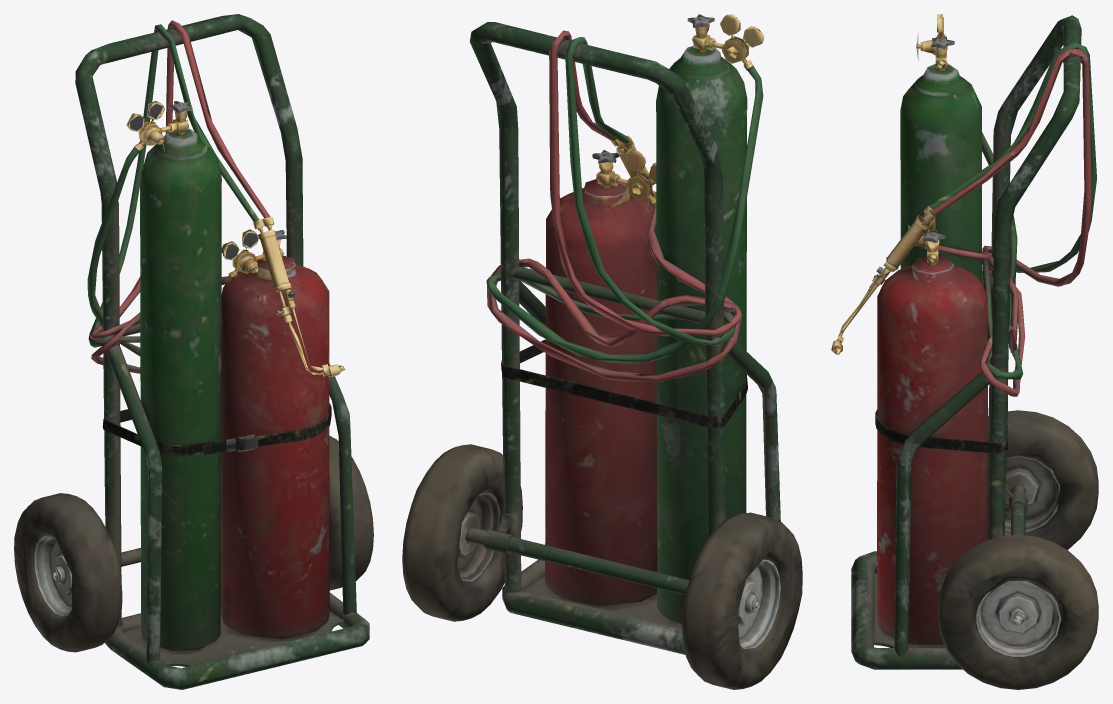
Rendered from portable_welding_cart.glb.
The picture shows the model from 3 angles, left to right: view 1: azimuth 30°, elevation 25°; view 2: azimuth 150°, elevation 25°; view 3: azimuth 270°, elevation 25°; orthographic projection. The views are drawn at different scales.
Visible parts, largest first — view 1: portable_welding_cart; view 2: portable_welding_cart; view 3: portable_welding_cart.
Boxes of the visible parts, bbox=[...] form: portable_welding_cart: bbox=[14, 14, 373, 689]; portable_welding_cart: bbox=[402, 14, 802, 689]; portable_welding_cart: bbox=[831, 14, 1098, 689].
Size of the model in its own units: 0.8366 by 1.56 by 0.655.
Materials: 2 (2 with a texture image).
